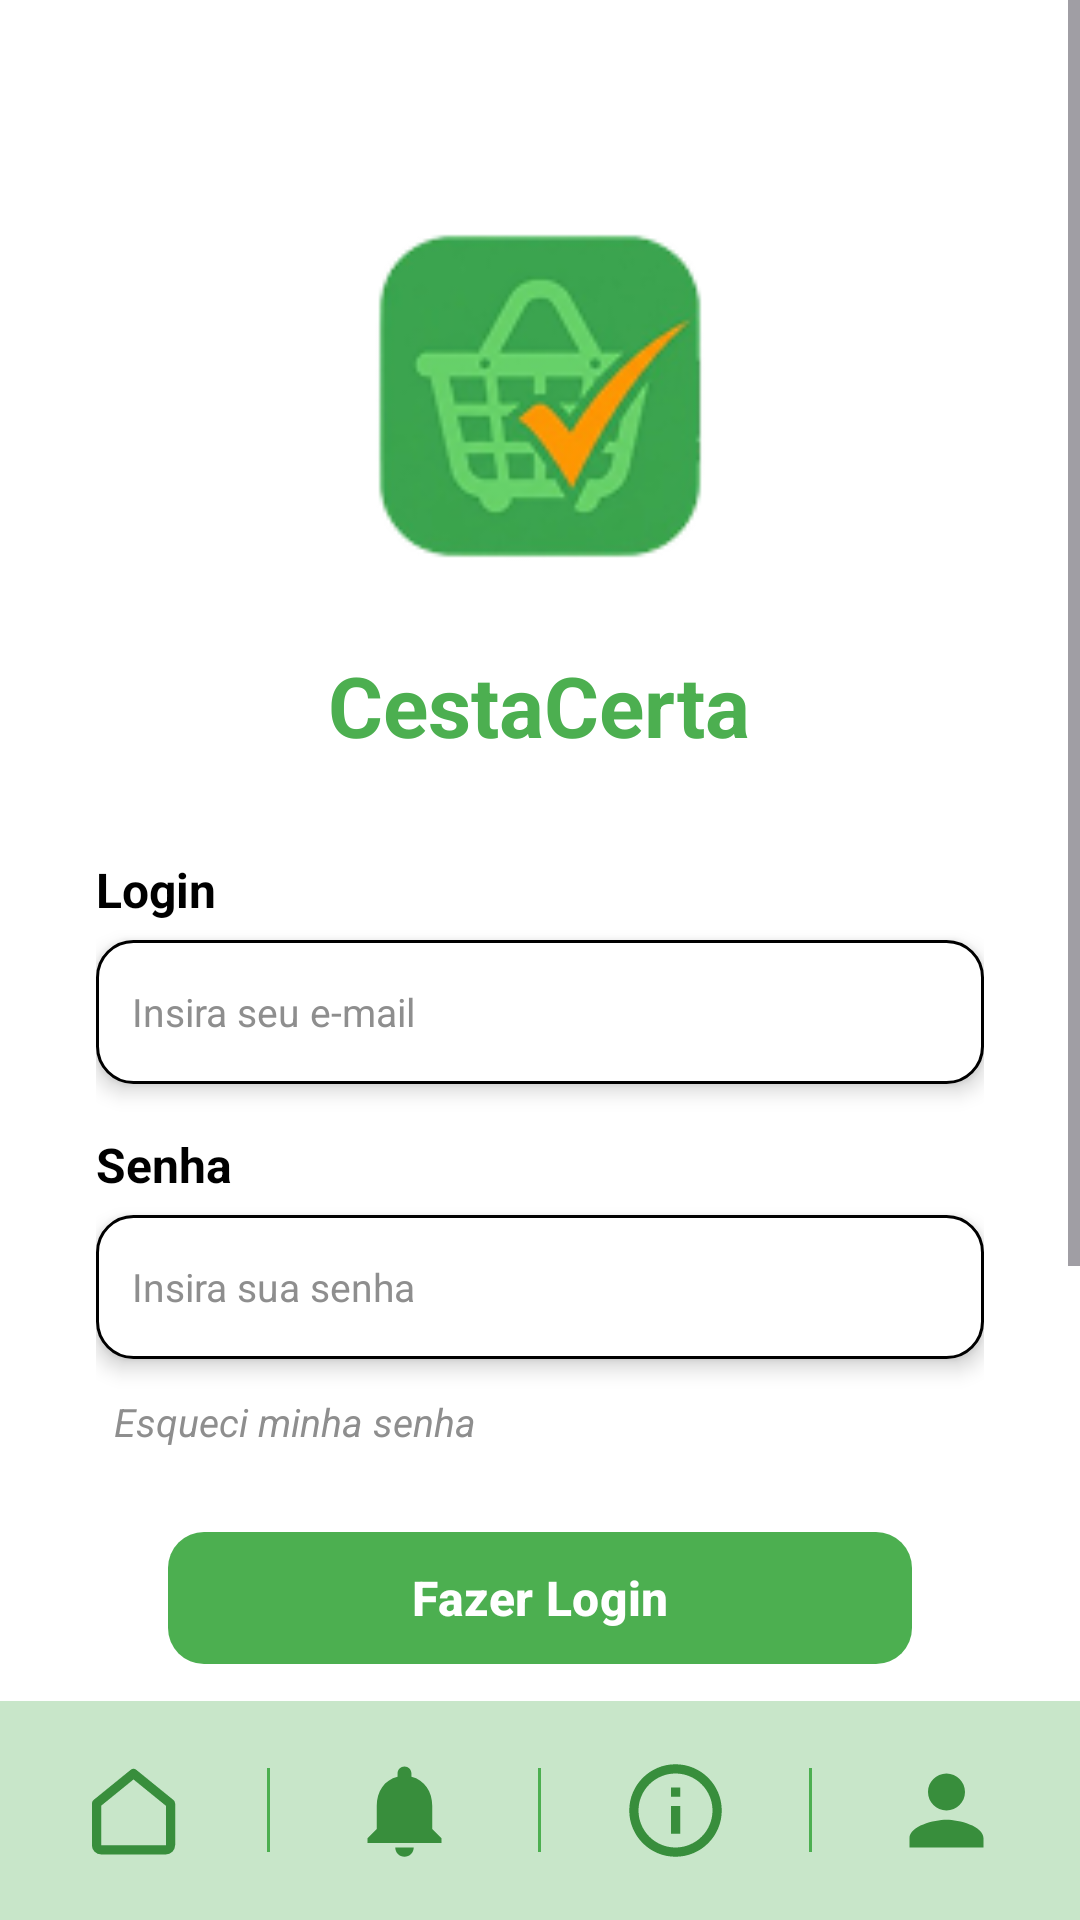

Point at icon controls on the screen. Image size 1080x1920, points as point (x, y).
Início: point (134, 1811)
Notificações: point (404, 1811)
Perfil: point (946, 1810)
Sobre nós: point (675, 1810)
